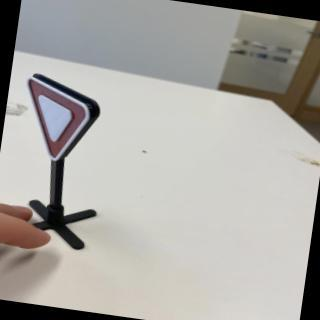sign_yield: (13, 75, 102, 172)
